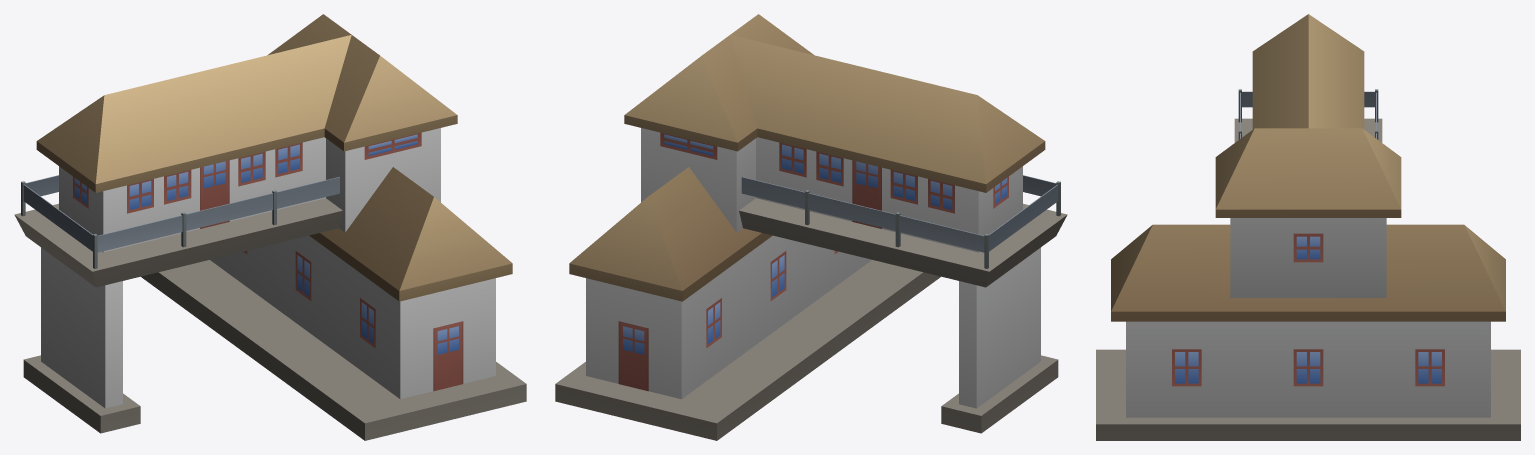
File: Signal_Box.fbx
3 renders of one model, left to right at view 1: azimuth 30°, elevation 25°; view 2: azimuth 150°, elevation 25°; view 3: azimuth 270°, elevation 25°, orthographic. The views are drawn at different scales.
Parts seen in each view (by area): view 1: Signal_Box; view 2: Signal_Box; view 3: Signal_Box.
Boxes of the visible parts, x1,y1,x2,y2 form: Signal_Box: (14, 14, 526, 440); Signal_Box: (555, 14, 1067, 440); Signal_Box: (1096, 14, 1520, 440).
Size of the model in its own units: 1298 by 1030 by 1398.
